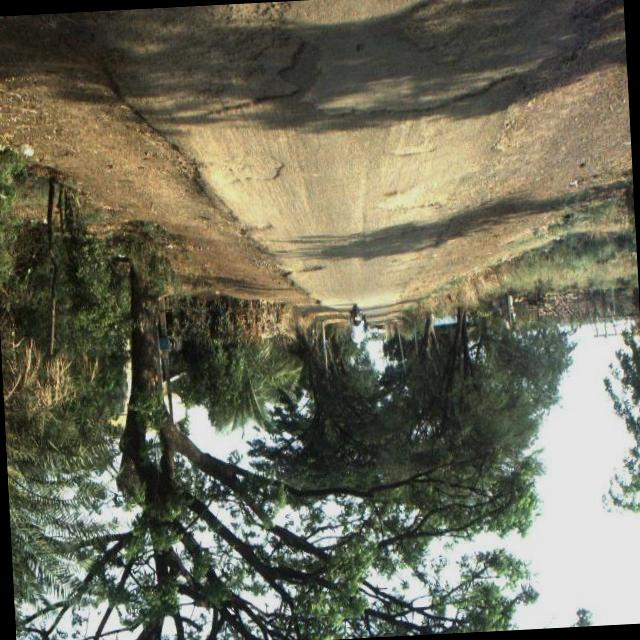pothole: (349, 0, 618, 124), (159, 0, 326, 139), (377, 122, 456, 238), (240, 130, 298, 212), (283, 234, 347, 297)
